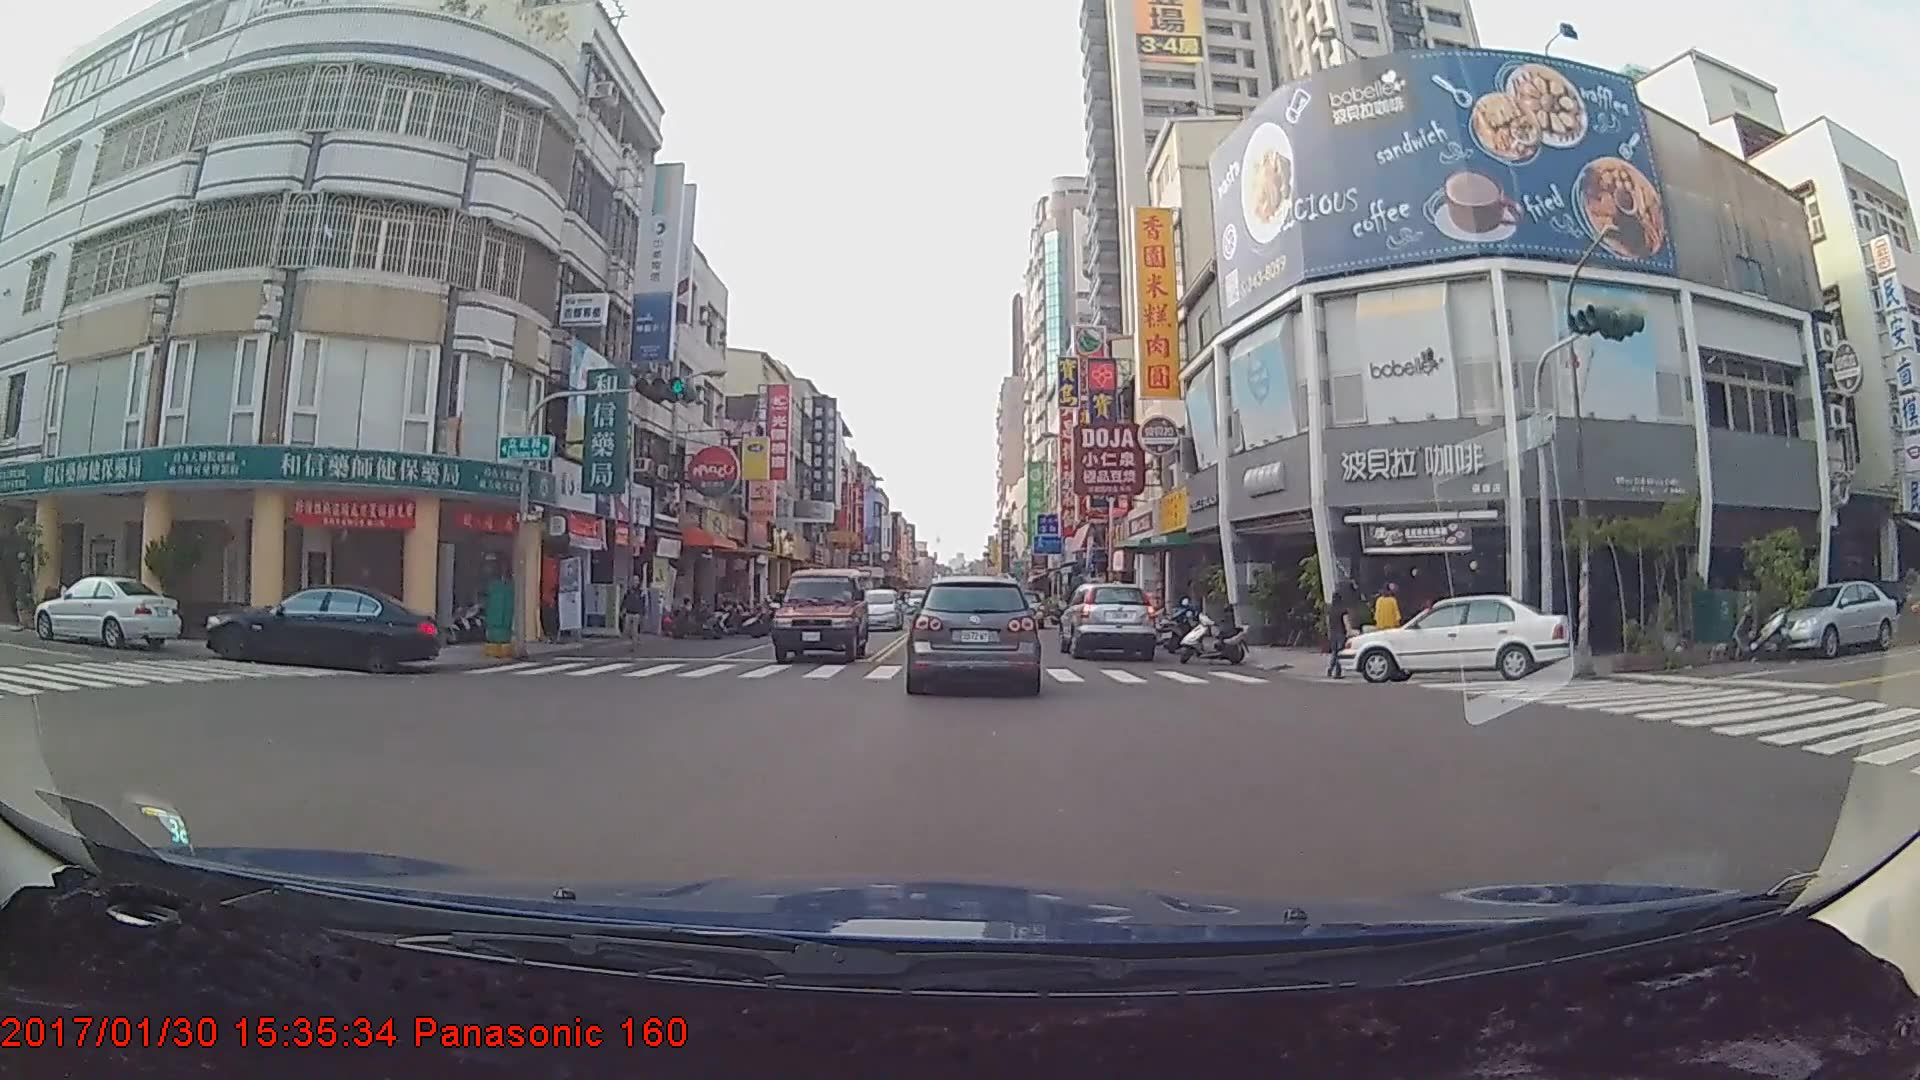pedestrian: (1372, 585, 1408, 668), (1323, 594, 1356, 682), (618, 576, 649, 651)
vehicle: (1335, 593, 1575, 685), (203, 581, 439, 674), (908, 577, 1038, 692), (33, 576, 181, 655), (1765, 578, 1896, 658), (769, 566, 868, 665), (1057, 580, 1157, 661), (854, 588, 905, 632)
